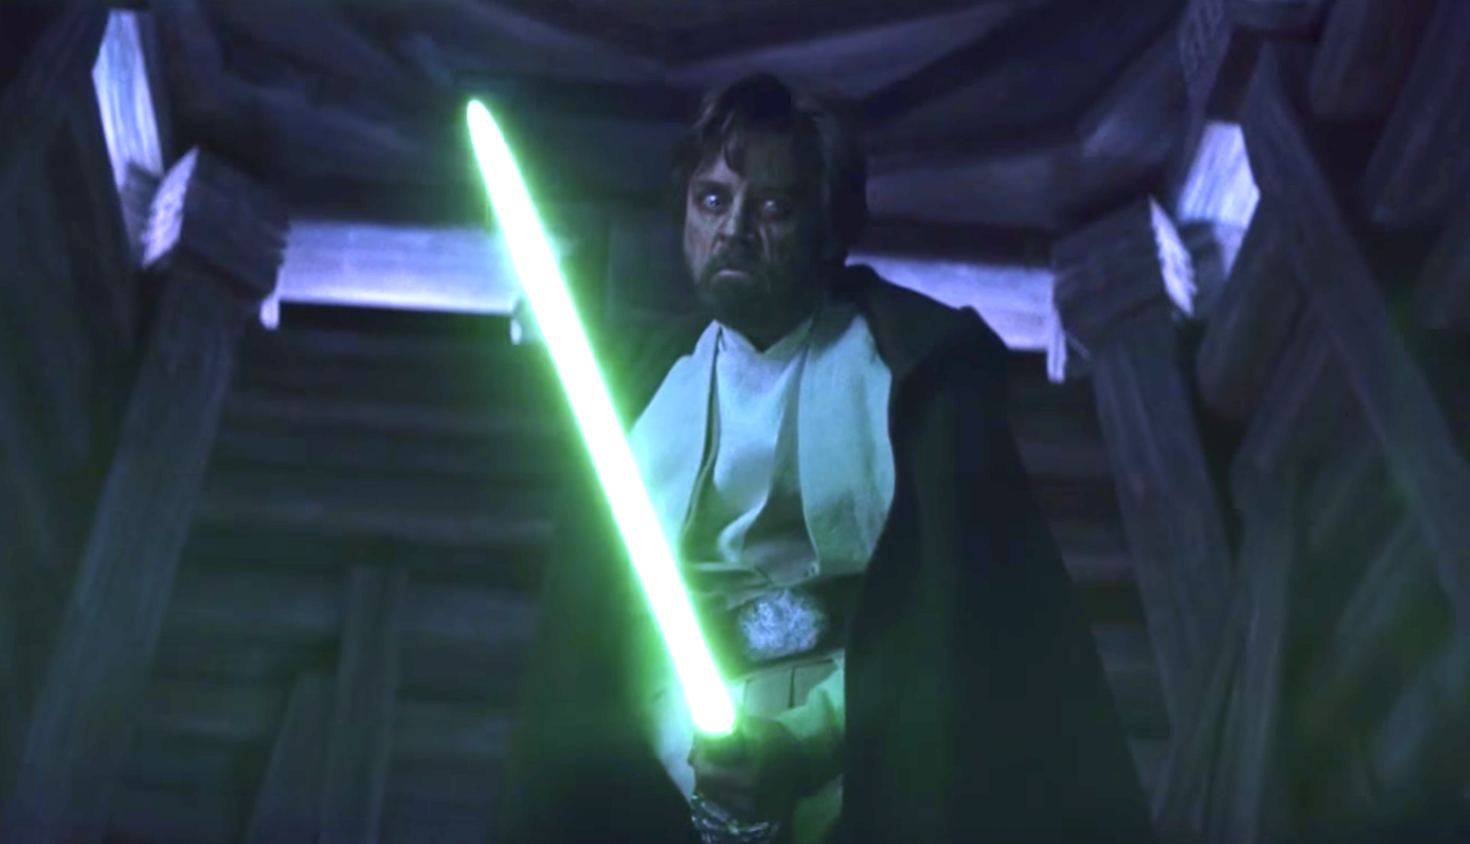lightsaber: (445, 14, 785, 823)
